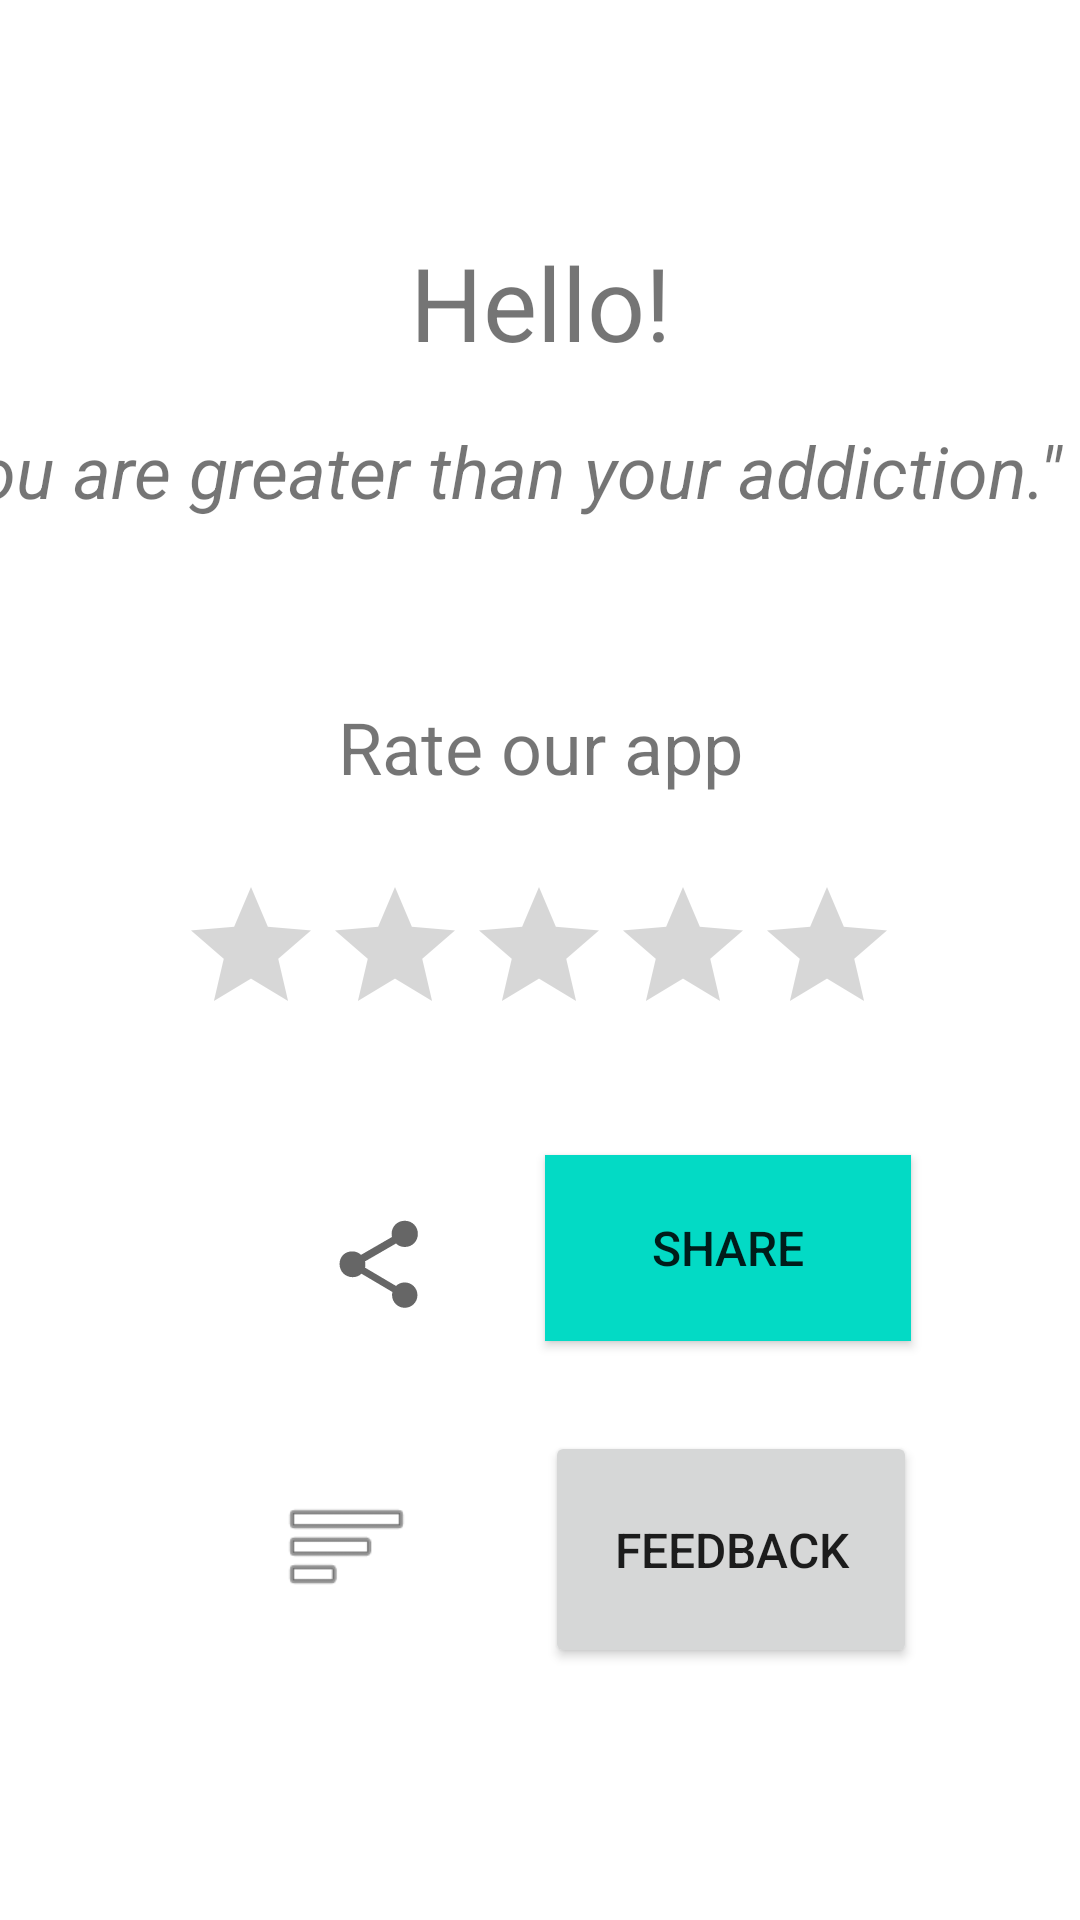

Icons on this 1080px×1920px Android screen, each with the point to tap as [x,y]:
sort by size: [346,1547]
